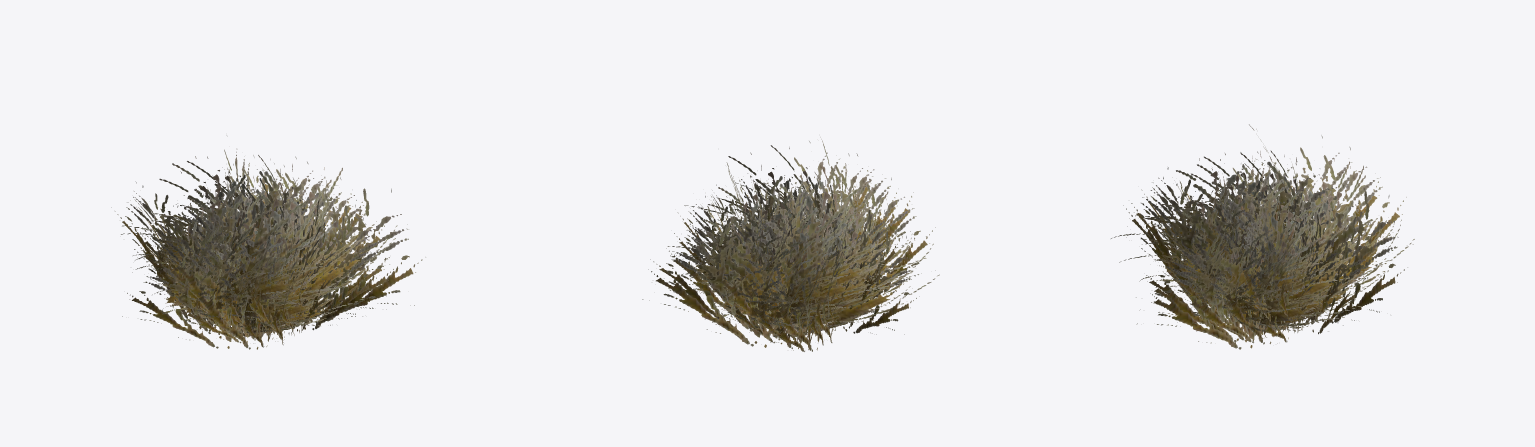
The model's file is dead_grass.glb.
3 views of the same model, side by side, from view 1: azimuth 30°, elevation 25°; view 2: azimuth 150°, elevation 25°; view 3: azimuth 270°, elevation 25° (orthographic). The views are drawn at different scales.
Size of the model in its own units: 235 by 150 by 231.
Materials: 1 (1 with a texture image).
